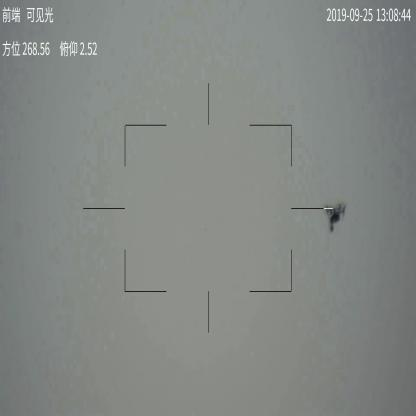uav: (325, 201, 347, 232)
